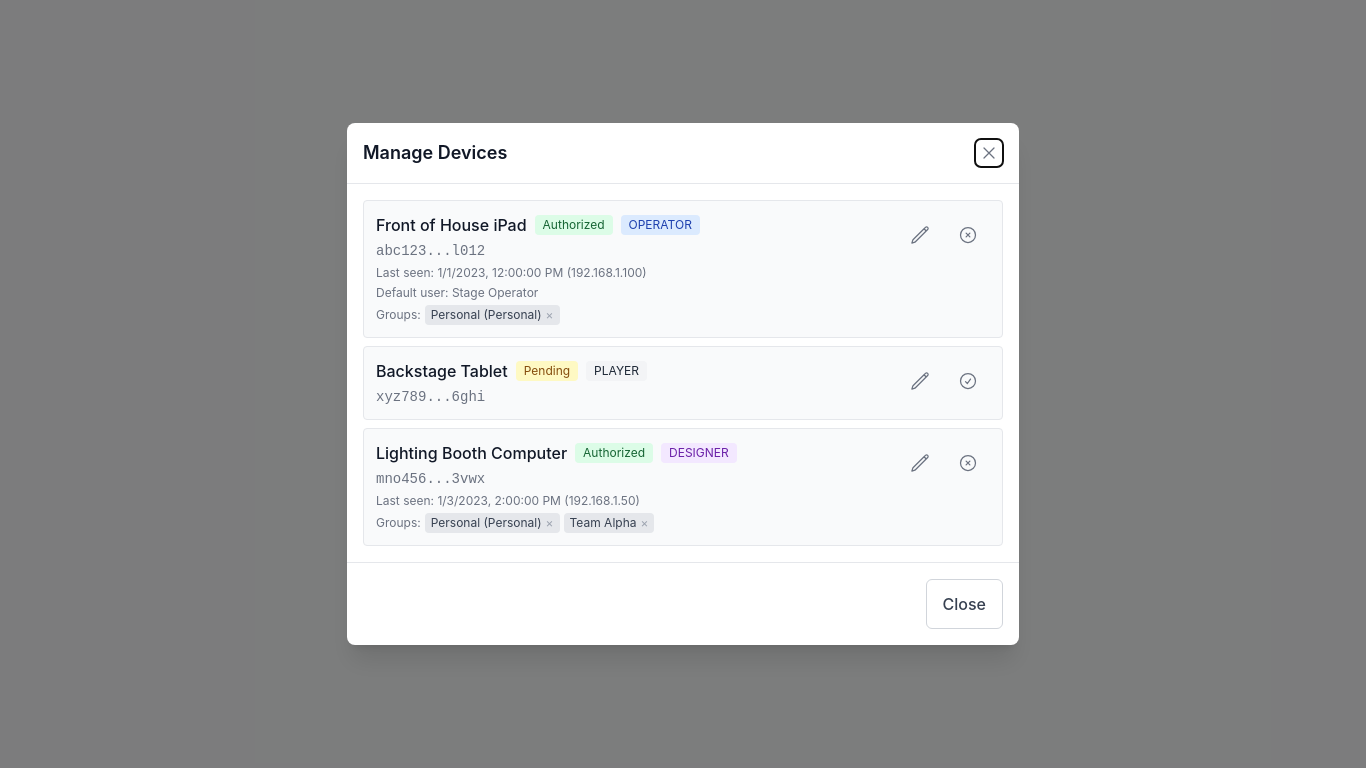
Scenario: DeviceManagementModal › device editing › shows edit form when edit button is clicked
Expected: the text "Front of House iPad" is shown, x1=376 y1=213 x2=527 y2=237
Step 1. Click the button titled "Edit device" in the row of "Front of House iPad" → (920, 235), box x1=898 y1=213 x2=942 y2=257
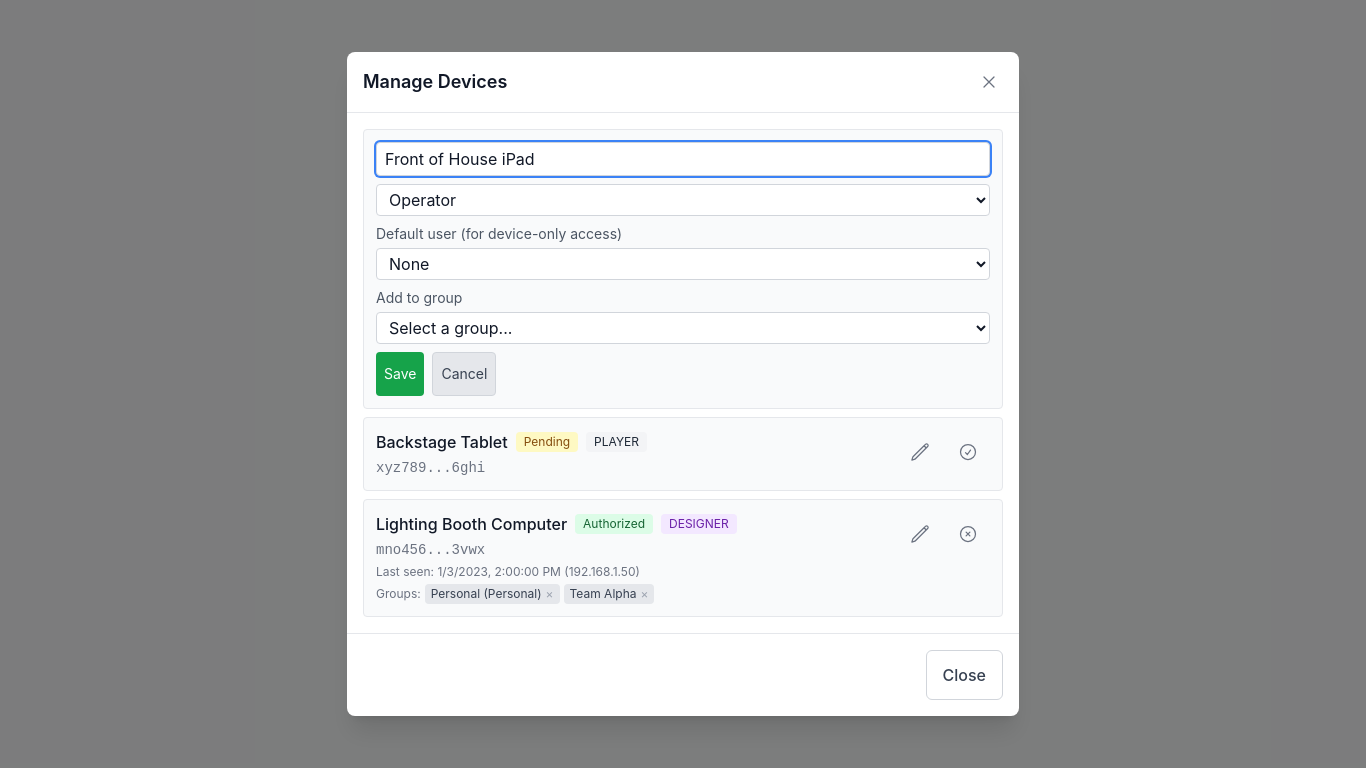
Result: the field with placeholder "Device name" is shown at x1=376 y1=142 x2=990 y2=176
